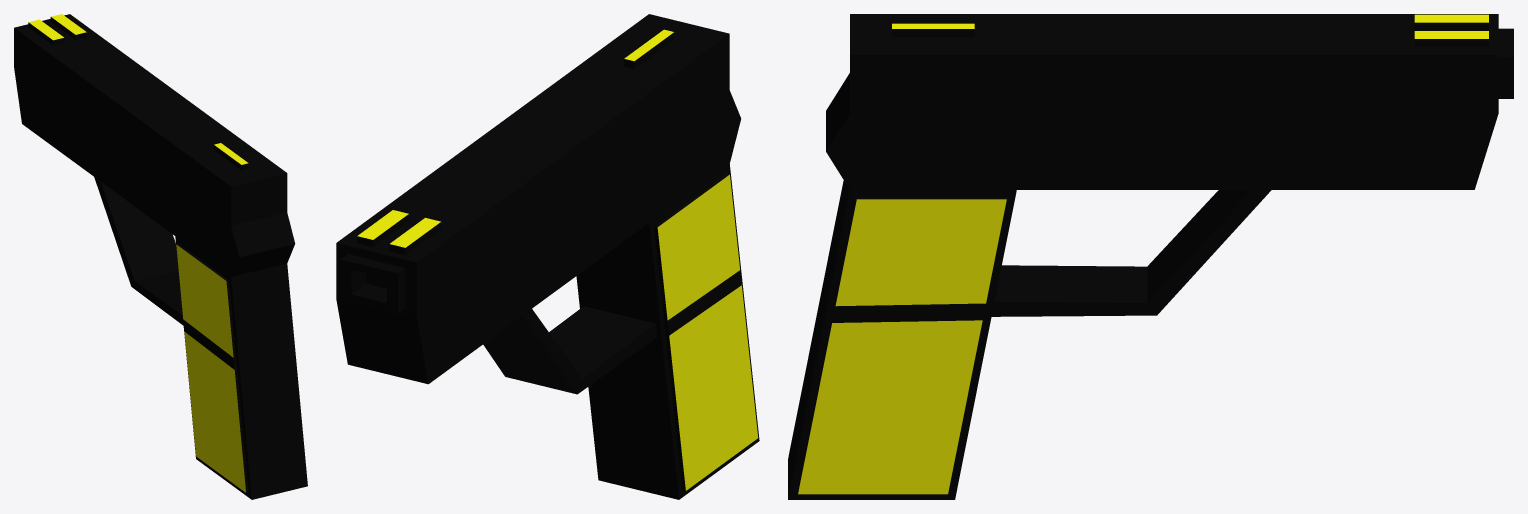
The model's file is lowpoly_pistol.fbx.
3 views of the same model, side by side, from view 1: azimuth 30°, elevation 25°; view 2: azimuth 150°, elevation 25°; view 3: azimuth 270°, elevation 25° (orthographic). The views are drawn at different scales.
Parts seen in each view (by area): view 1: Pistol; view 2: Pistol; view 3: Pistol.
Boxes of the visible parts, box(x1,y1,x2,y2) form: Pistol: box(14, 14, 307, 499); Pistol: box(336, 14, 759, 499); Pistol: box(788, 14, 1513, 499).
Size of the model in its own units: 126 by 599 by 869.
